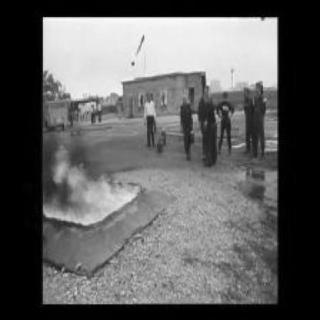Fire: (42, 137, 142, 225)
